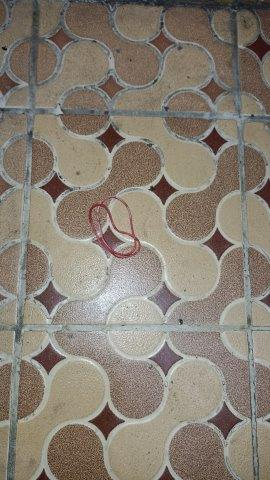karet: (88, 196, 142, 259)
